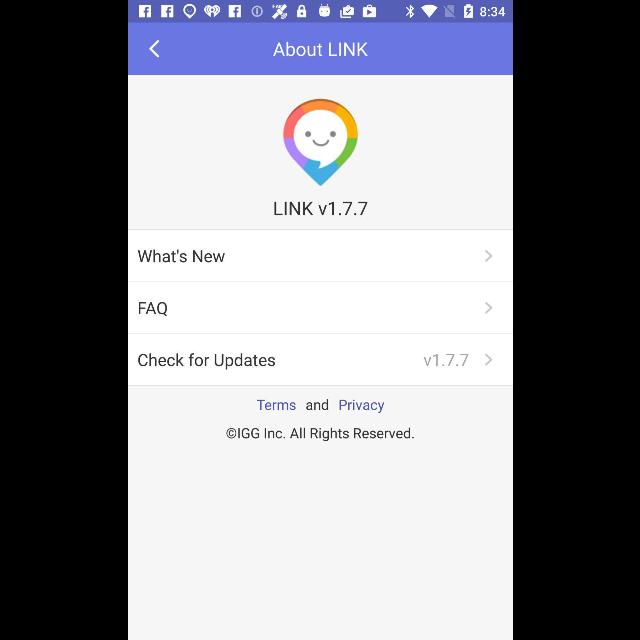icon: (148, 40, 160, 58), (483, 302, 492, 314), (483, 354, 492, 366), (484, 250, 492, 262)
image: (282, 99, 358, 188)
text: (225, 427, 413, 441), (138, 354, 274, 371), (256, 398, 384, 414), (272, 41, 368, 57), (137, 249, 225, 263), (317, 201, 367, 215), (422, 353, 468, 367), (274, 202, 312, 216), (138, 302, 166, 316)
toolbar: (128, 23, 512, 75)
uppertaskbar: (128, 1, 512, 23)
